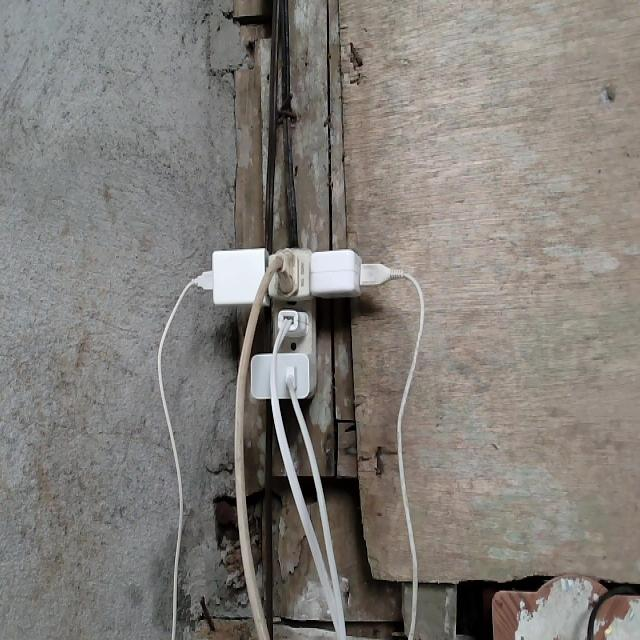-: (185, 245, 403, 399)
